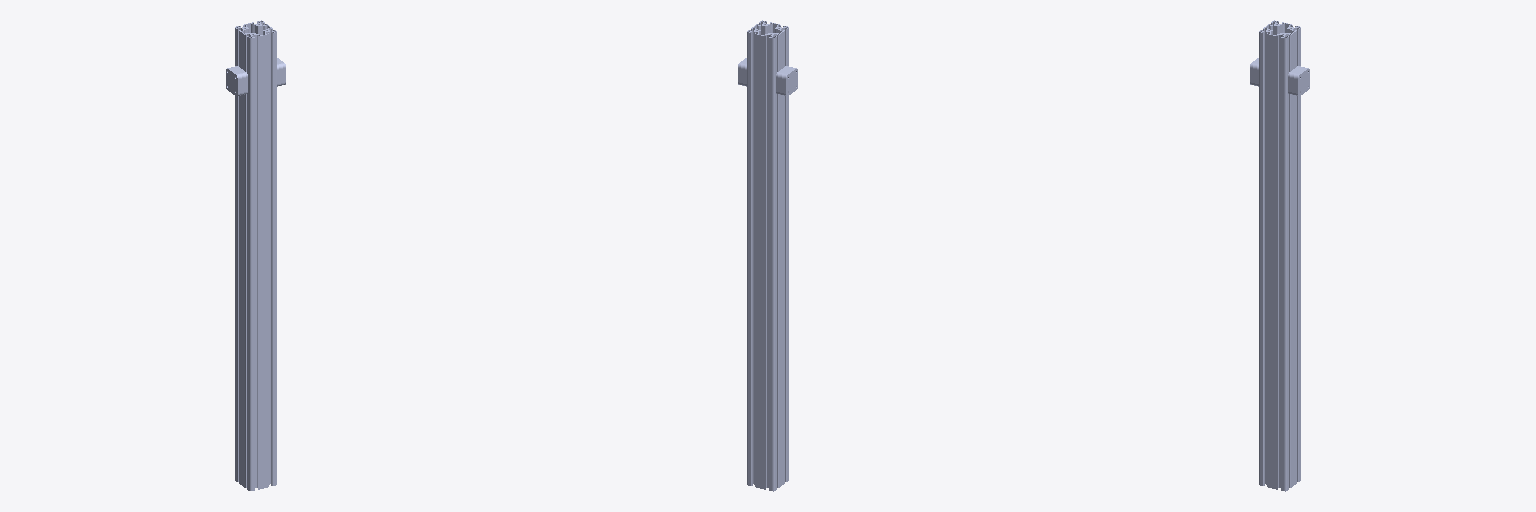
URDF robot description (dual_arm_support):
<?xml version="1.0" encoding="utf-8"?>
<!-- This URDF was automatically created by SolidWorks to URDF Exporter! Originally created by [author] ([email redacted]) 
     Commit Version: 1.6.0-4-g7f85cfe  Build Version: 1.6.7995.38578
     For more information, please see http://wiki.ros.org/sw_urdf_exporter -->
<robot
  name="dual_arm_support">
  <mujoco>
    <compiler 
      meshdir="../meshes/" 
      balanceinertia="true" 
      discardvisual="false" />
  </mujoco> 
  <link
    name="base_link">
    <inertial>
      <origin
        xyz="4.4390908945955E-08 6.15097131842071E-08 0.625"
        rpy="0 0 0" />
      <mass
        value="2.19423393695423" />
      <inertia
        ixx="0.287192437664211"
        ixy="2.69040881704817E-09"
        ixz="9.91925905799376E-16"
        iyy="0.287192448392283"
        iyz="5.97292812641121E-20"
        izz="0.00296979830799831" />
    </inertial>
    <visual>
      <origin
        xyz="0 0 0"
        rpy="0 0 0" />
      <geometry>
        <mesh
          filename="base_link.STL" />
      </geometry>
      <material
        name="">
        <color
          rgba="0.792156862745098 0.819607843137255 0.933333333333333 1" />
      </material>
    </visual>
    <collision>
      <origin
        xyz="0 0 0"
        rpy="0 0 0" />
      <geometry>
        <mesh
          filename="base_link.STL" />
      </geometry>
    </collision>
  </link>
  <link
    name="left_arm_attachment_point">
    <inertial>
      <origin
        xyz="0.015 -4.7603E-17 0"
        rpy="0 0 0" />
      <mass
        value="0.1018" />
      <inertia
        ixx="5.7895E-05"
        ixy="-7.5643E-20"
        ixz="7.4422E-20"
        iyy="3.6583E-05"
        iyz="4.1359E-21"
        izz="3.6583E-05" />
    </inertial>
    <visual>
      <origin
        xyz="0 0 0"
        rpy="0 0 0" />
      <geometry>
        <mesh
          filename="left_arm_attachment_point.STL" />
      </geometry>
      <material
        name="">
        <color
          rgba="0.79216 0.81961 0.93333 1" />
      </material>
    </visual>
    <collision>
      <origin
        xyz="0 0 0"
        rpy="0 0 0" />
      <geometry>
        <mesh
          filename="left_arm_attachment_point.STL" />
      </geometry>
    </collision>
  </link>
  <joint
    name="left_arm_attachment_joint"
    type="fixed">
    <origin
      xyz="-0.07 0 1.12"
      rpy="0 0 0" />
    <parent
      link="base_link" />
    <child
      link="left_arm_attachment_point" />
    <axis
      xyz="0 0 0" />
  </joint>
  <link
    name="right_arm_attachment_point">
    <inertial>
      <origin
        xyz="-0.015 5.7142E-17 0"
        rpy="0 0 0" />
      <mass
        value="0.1018" />
      <inertia
        ixx="5.7895E-05"
        ixy="-7.5643E-20"
        ixz="7.4422E-20"
        iyy="3.6583E-05"
        iyz="3.3087E-21"
        izz="3.6583E-05" />
    </inertial>
    <visual>
      <origin
        xyz="0 0 0"
        rpy="0 0 0" />
      <geometry>
        <mesh
          filename="right_arm_attachment_point.STL" />
      </geometry>
      <material
        name="">
        <color
          rgba="0.79216 0.81961 0.93333 1" />
      </material>
    </visual>
    <collision>
      <origin
        xyz="0 0 0"
        rpy="0 0 0" />
      <geometry>
        <mesh
          filename="right_arm_attachment_point.STL" />
      </geometry>
    </collision>
  </link>
  <joint
    name="right_arm_attachment_joint"
    type="fixed">
    <origin
      xyz="0.07 0 1.12"
      rpy="0 0 0" />
    <parent
      link="base_link" />
    <child
      link="right_arm_attachment_point" />
    <axis
      xyz="0 0 0" />
  </joint>
</robot>

--- Render facts (derived) ---
3 views of the same robot in one strip: view 1: azimuth 30°, elevation 25°; view 2: azimuth 150°, elevation 25°; view 3: azimuth 330°, elevation 25° (orthographic).
Robot: dual_arm_support — 3 links, 2 joints (2 fixed); root link base_link; default pose: all joints at 0.
Visible links, largest first — view 1: base_link, left_arm_attachment_point; view 2: base_link, left_arm_attachment_point; view 3: base_link, right_arm_attachment_point.
Boxes of the visible links, <box> form: base_link: <box>235,20,276,490</box>; left_arm_attachment_point: <box>226,66,247,96</box>; base_link: <box>747,20,788,491</box>; left_arm_attachment_point: <box>776,66,797,96</box>; base_link: <box>1259,20,1300,491</box>; right_arm_attachment_point: <box>1288,66,1309,96</box>.
Bounding box of the posed robot: 0.14 × 0.08 × 1.25 m (x, y, z).
Meshes: 3 distinct files referenced, 3 mesh visuals loaded (3 binary STL).